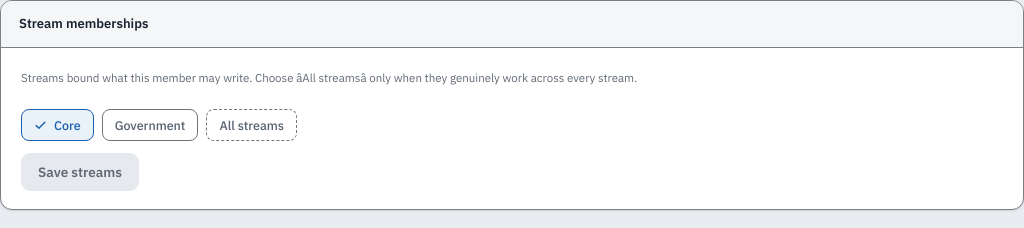
StreamAssignmentPanel (ADR-0042 step 3) › disables save until something actually changes
Check: the button "Save streams" is disabled, box x1=21 y1=153 x2=139 y2=191
Click the button "Government" at (150, 125), box x1=102 y1=109 x2=198 y2=141
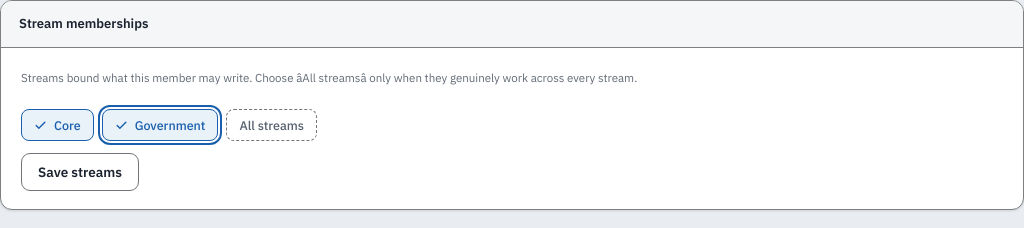
Check: the button "Save streams" is enabled, box x1=21 y1=153 x2=139 y2=191
